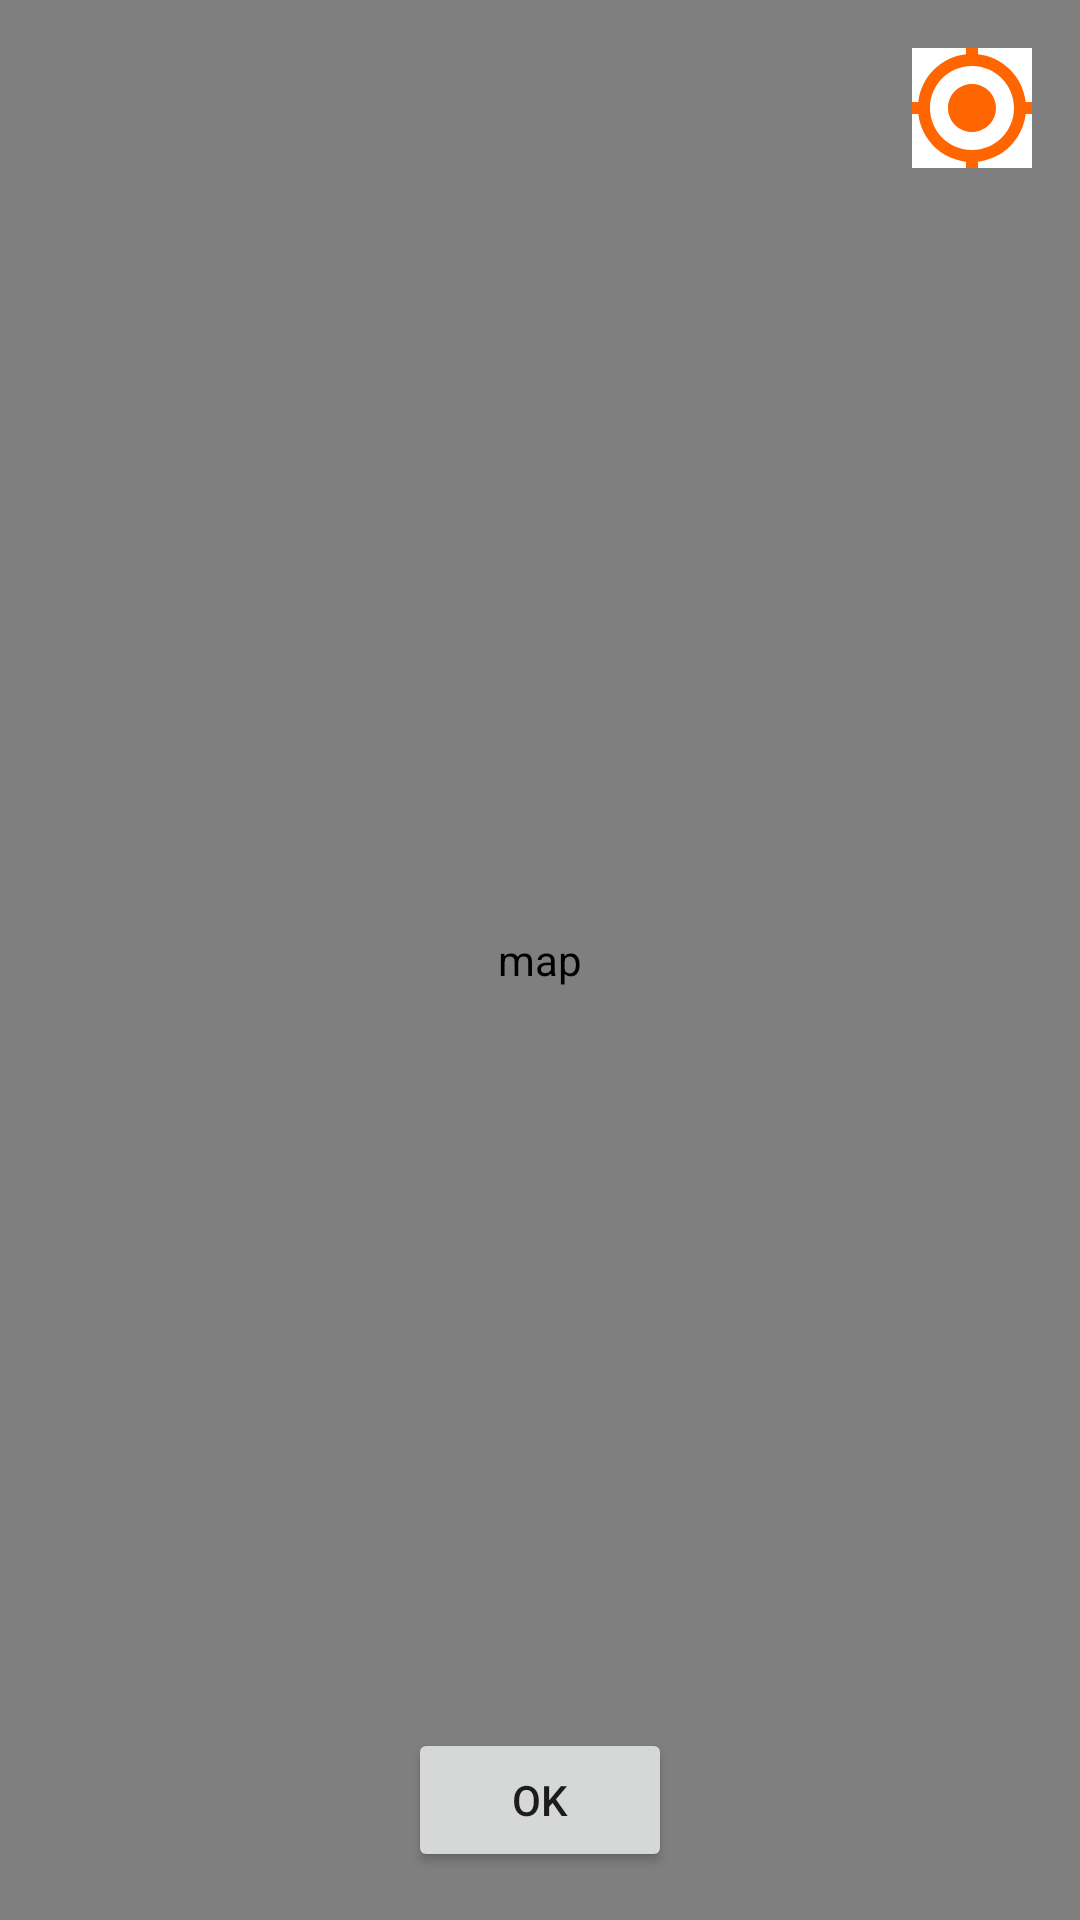

Where icons sit on this 1080×1920 app screen, as (x1, y1, x2, y2):
GPS: (912, 48, 1032, 168)
